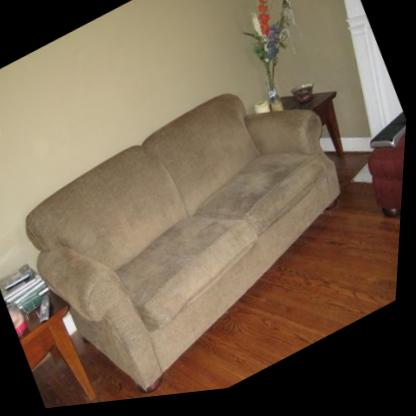Sofa: (3, 50, 393, 414)
